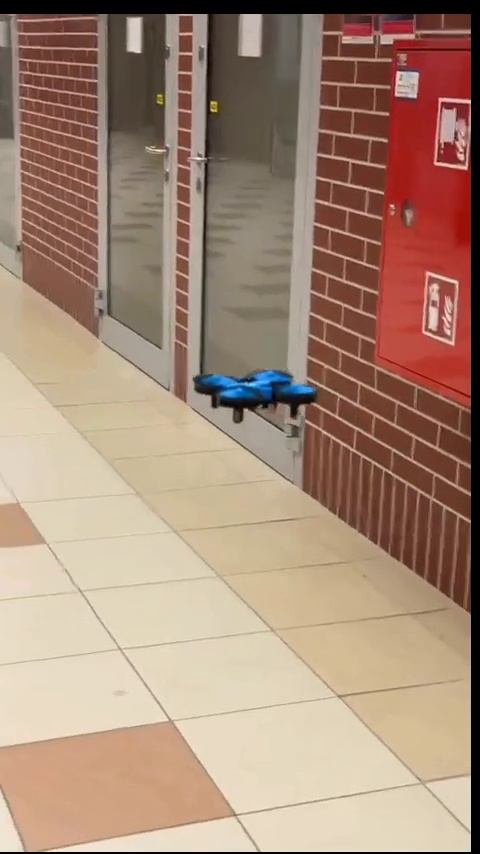drone: (192, 368, 317, 423)
